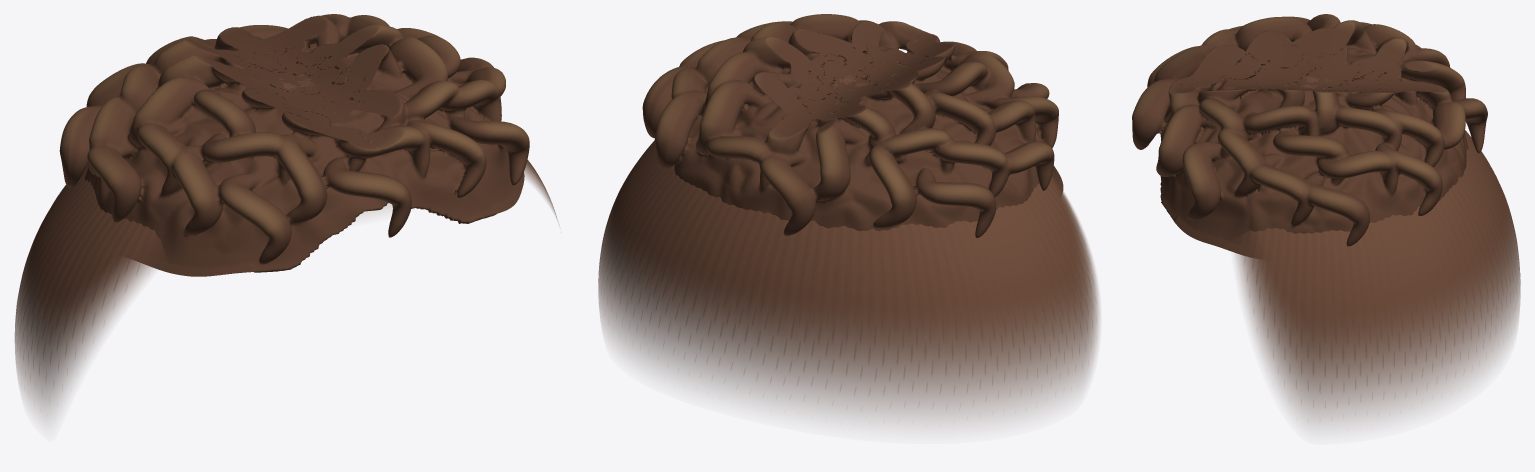
Rendered from Masculine-curly-top-cowboy257-hair-ombre.glb.
The picture shows the model from 3 angles, left to right: view 1: azimuth 30°, elevation 25°; view 2: azimuth 150°, elevation 25°; view 3: azimuth 270°, elevation 25°; orthographic projection. The views are drawn at different scales.
Visible parts, largest first — view 1: 226 hair / Hair252 / sculpted curl groups, 226 hair / Hair257 / smooth side fade, 226 hair / Hair257 / directional fade marks; view 2: 226 hair / Hair257 / smooth side fade, 226 hair / Hair252 / sculpted curl groups, 226 hair / Hair257 / directional fade marks; view 3: 226 hair / Hair252 / sculpted curl groups, 226 hair / Hair257 / smooth side fade, 226 hair / Hair257 / directional fade marks.
Boxes of the visible parts, left/top/right/bottom form: 226 hair / Hair252 / sculpted curl groups: left=59, top=14, right=529, bottom=276; 226 hair / Hair257 / smooth side fade: left=15, top=75, right=558, bottom=418; 226 hair / Hair257 / directional fade marks: left=16, top=160, right=535, bottom=371; 226 hair / Hair257 / smooth side fade: left=598, top=72, right=1099, bottom=423; 226 hair / Hair252 / sculpted curl groups: left=642, top=14, right=1063, bottom=237; 226 hair / Hair257 / directional fade marks: left=608, top=141, right=1092, bottom=393; 226 hair / Hair252 / sculpted curl groups: left=1132, top=14, right=1487, bottom=257; 226 hair / Hair257 / smooth side fade: left=1234, top=75, right=1520, bottom=425; 226 hair / Hair257 / directional fade marks: left=1244, top=130, right=1517, bottom=389.
Bounding box in the file's own units: 0.9723 × 0.6416 × 0.7499.
